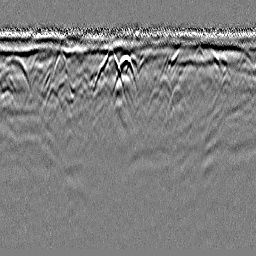cavity: (110, 51, 139, 97)
